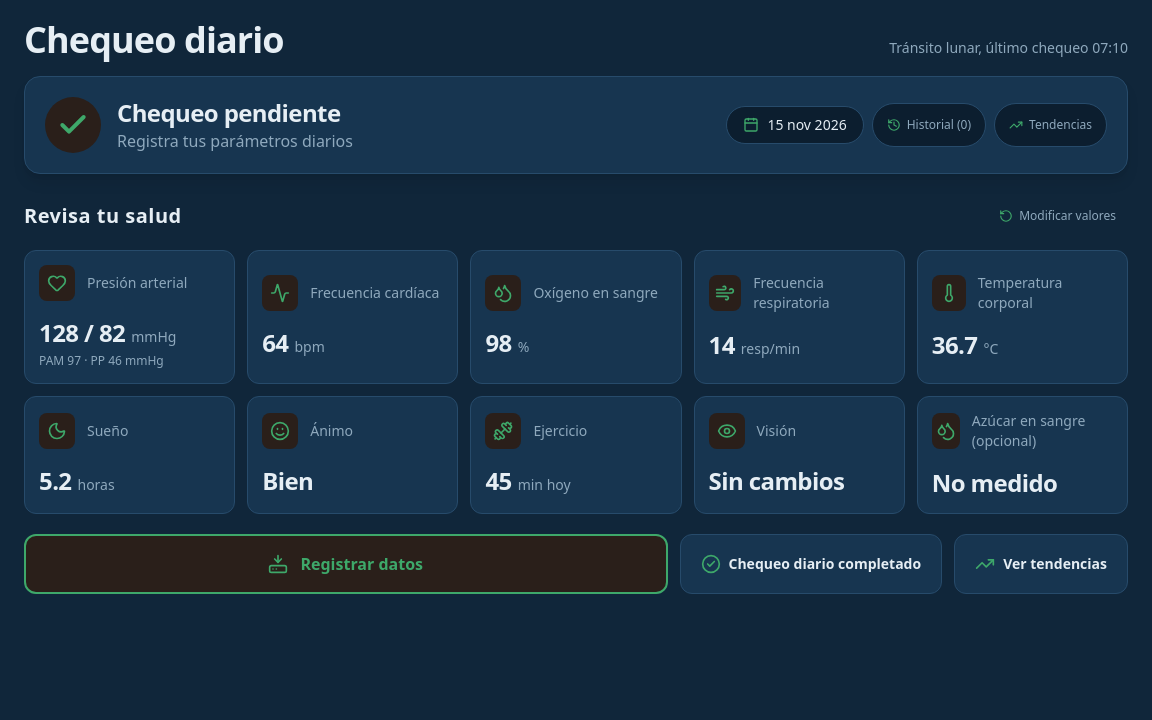
Test: pantallas traducidas › Chequeo diario: en español por defecto
The width and height of the screenshot is (1152, 720).
Expected: the heading "Chequeo diario" is shown, x1=24 y1=20 x2=284 y2=60
Expected: the heading "Revisa tu salud" is shown, x1=24 y1=202 x2=182 y2=230
Click the button "Modificar valores" at (1058, 216), box x1=987 y1=194 x2=1128 y2=238
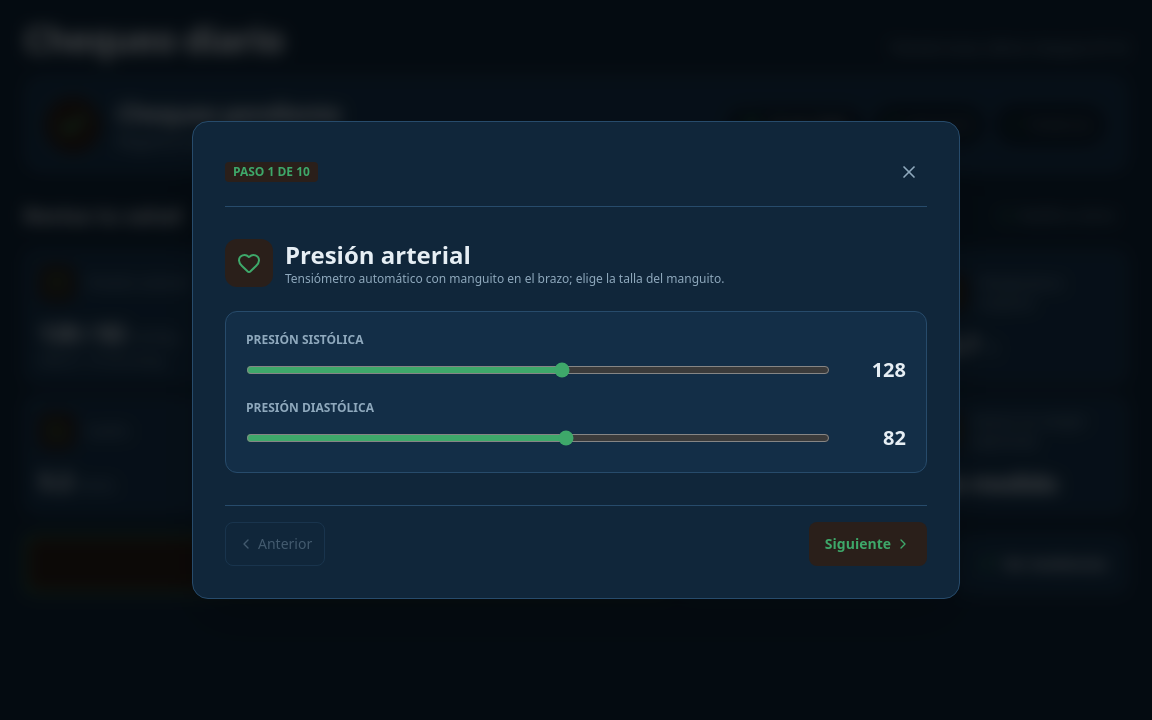
Result: the text "Paso 1 de 10" is shown at x1=225 y1=162 x2=318 y2=182
Result: the button named "Cerrar" is shown at x1=891 y1=154 x2=927 y2=190
